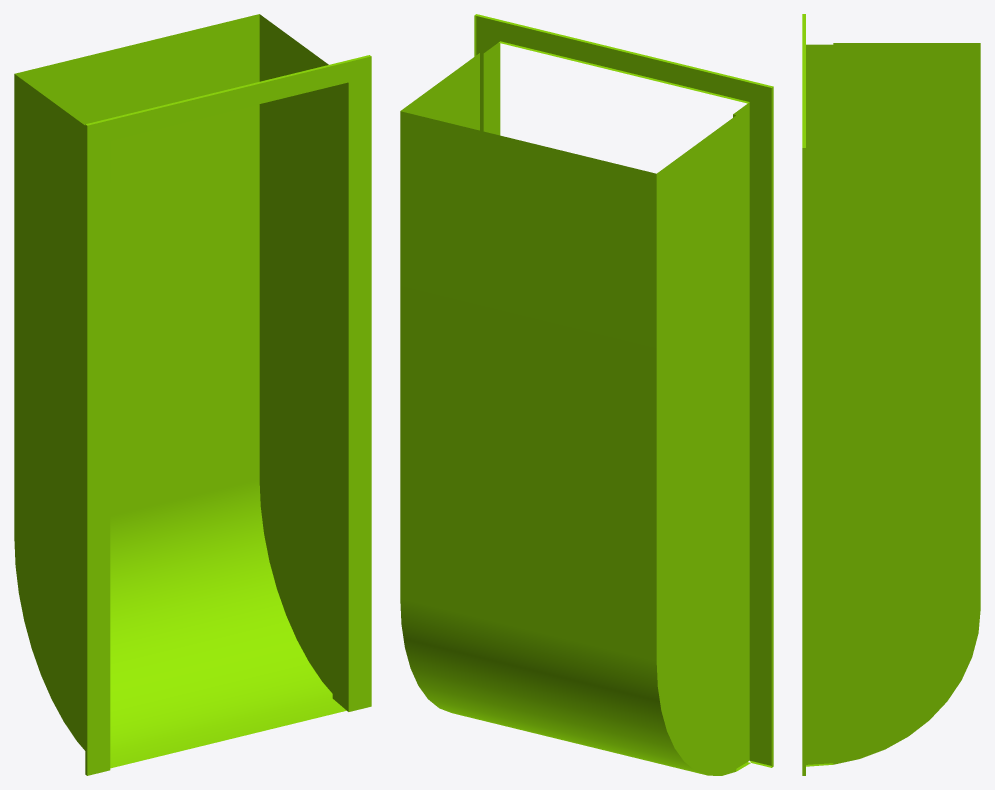
The model's file is FoodbackGround.fbx.
3 views of the same model, side by side, from view 1: azimuth 30°, elevation 25°; view 2: azimuth 150°, elevation 25°; view 3: azimuth 270°, elevation 25° (orthographic). The views are drawn at different scales.
Visible parts, largest first — view 1: foodBG_high; view 2: foodBG_high; view 3: foodBG_high.
Boxes of the visible parts, x1=… form: foodBG_high: x1=14, y1=14, x2=371, y2=775; foodBG_high: x1=400, y1=14, x2=773, y2=775; foodBG_high: x1=802, y1=14, x2=980, y2=775.
Size of the model in its own units: 128 by 279 by 71.82.
